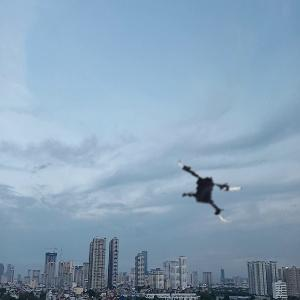drone: (171, 147, 255, 231)
